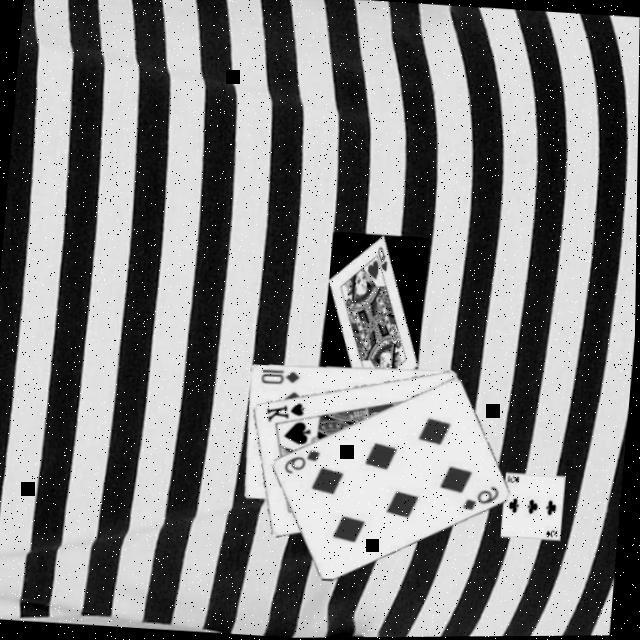10D: (258, 368, 304, 390)
6D: (461, 483, 504, 517), (282, 446, 324, 480)
KS: (263, 399, 309, 428)
